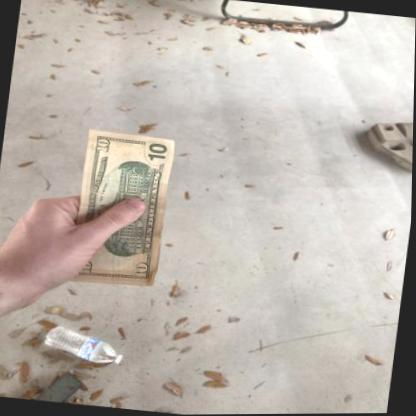ten-back: (69, 128, 177, 290)
